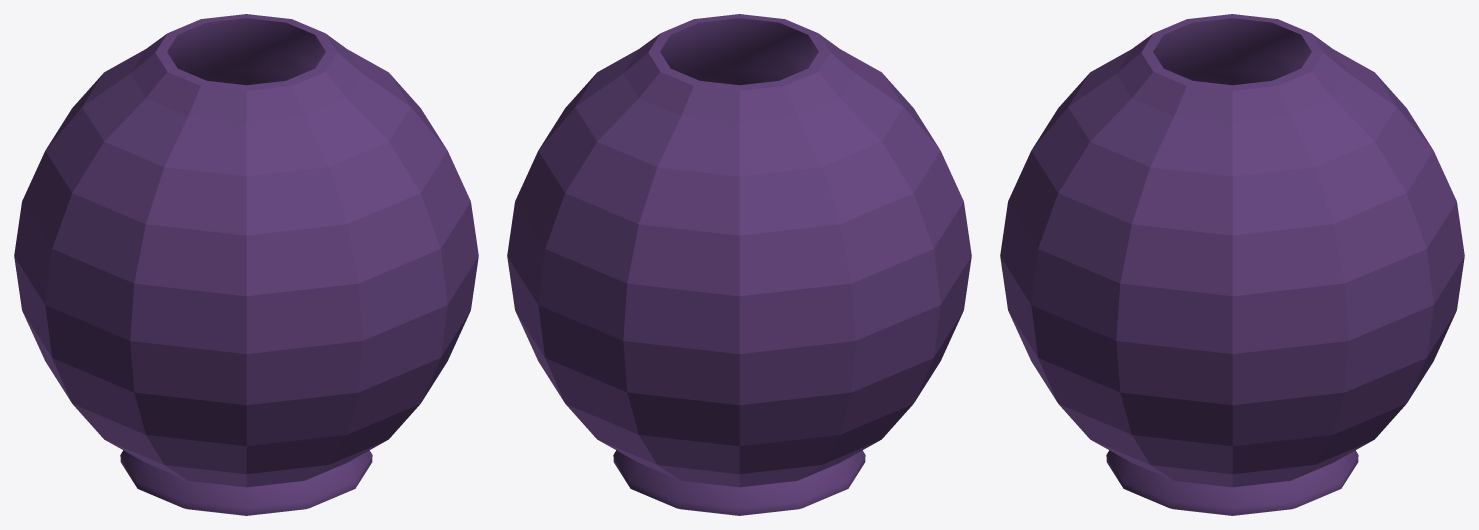
Rendered from PerfumeBottle.fbx.
3 views of the same model, side by side, from view 1: azimuth 30°, elevation 25°; view 2: azimuth 150°, elevation 25°; view 3: azimuth 270°, elevation 25° (orthographic).
Visible parts, largest first — view 1: PerfumeBottle; view 2: PerfumeBottle; view 3: PerfumeBottle.
Part boxes in pixels (x1,y1,x2,y2): PerfumeBottle: (14, 14, 478, 515); PerfumeBottle: (507, 14, 971, 515); PerfumeBottle: (1000, 14, 1464, 515).
Size of the model in its own units: 2 by 1.97 by 2.
